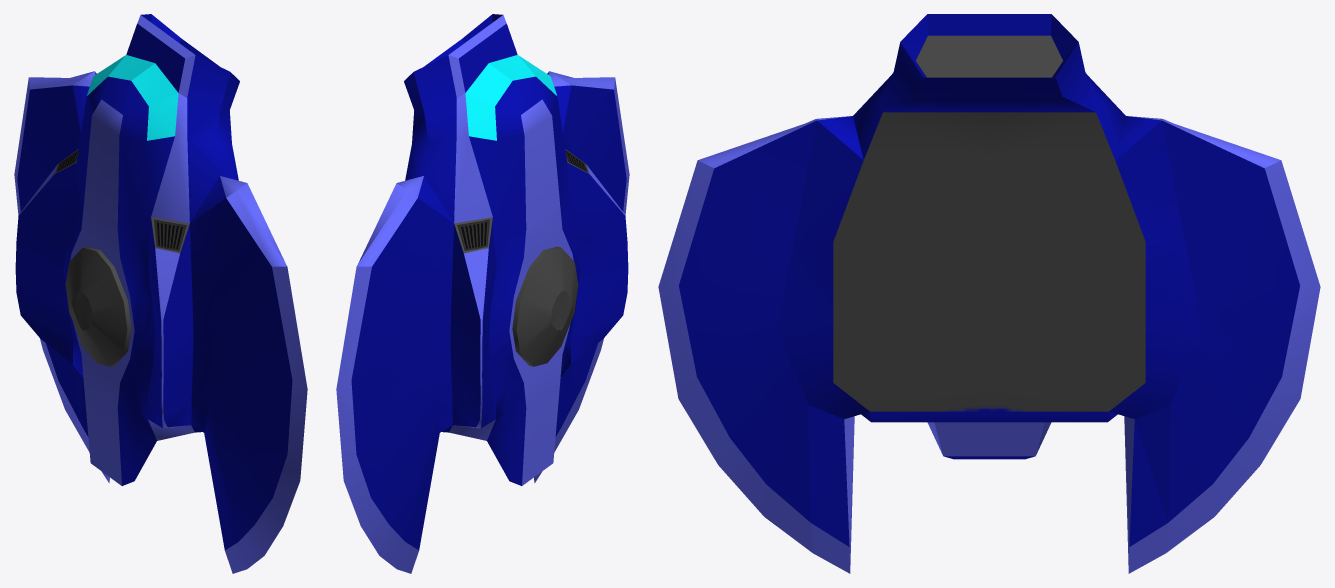
The model's file is Ship1.fbx.
The picture shows the model from 3 angles, left to right: view 1: azimuth 30°, elevation 25°; view 2: azimuth 150°, elevation 25°; view 3: azimuth 270°, elevation 25°; orthographic projection. The views are drawn at different scales.
Visible parts, largest first — view 1: pCylinder4; view 2: pCylinder4; view 3: pCylinder4.
Boxes of the visible parts, x1,y1,x2,y2 form: pCylinder4: (14, 14, 307, 573); pCylinder4: (336, 14, 629, 573); pCylinder4: (658, 14, 1320, 573).
Bounding box in the file's own units: 0.7274 × 2.67 × 2.87.
